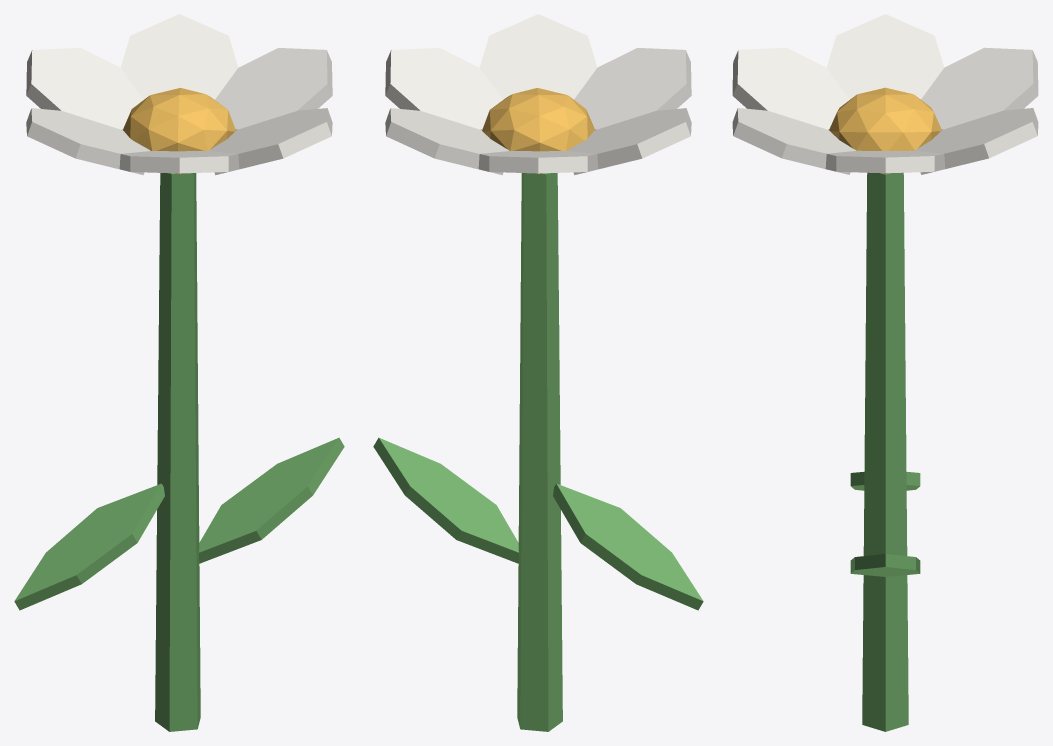
Rendered from deco_flower_white.obj.
3 views of the same model, side by side, from view 1: azimuth 30°, elevation 25°; view 2: azimuth 150°, elevation 25°; view 3: azimuth 270°, elevation 25° (orthographic).
Visible parts, largest first — view 1: deco_flower_white; view 2: deco_flower_white; view 3: deco_flower_white.
Boxes of the visible parts, x1,y1,x2,y2 form: deco_flower_white: (14,14,344,731); deco_flower_white: (373,14,703,731); deco_flower_white: (732,14,1038,731).
Size of the model in its own units: 0.0436 by 0.0802 by 0.035.
Materials: 1 (1 with a texture image).
